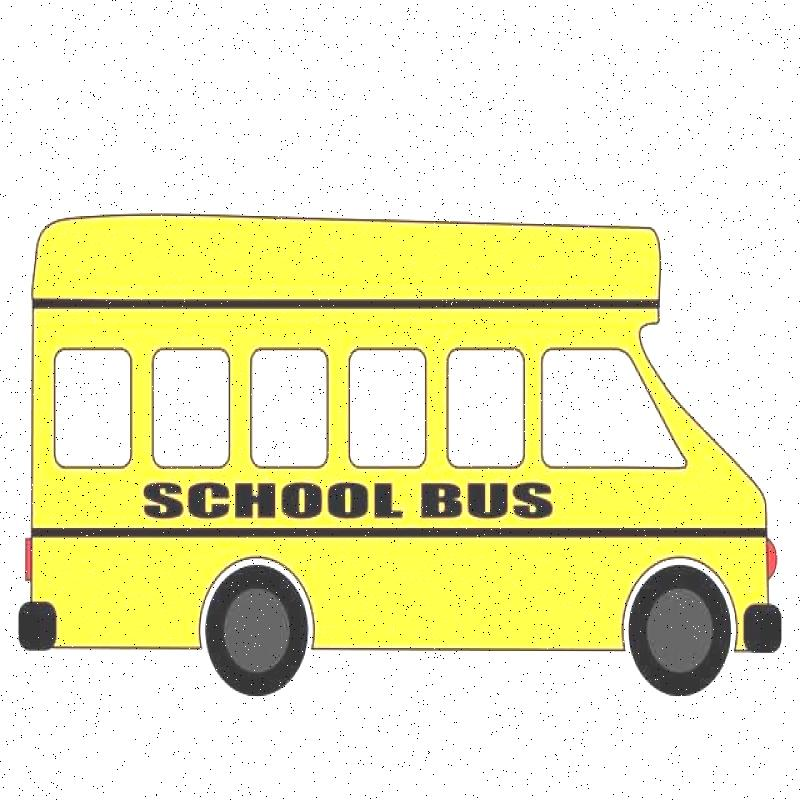bus: (19, 171, 800, 709)
